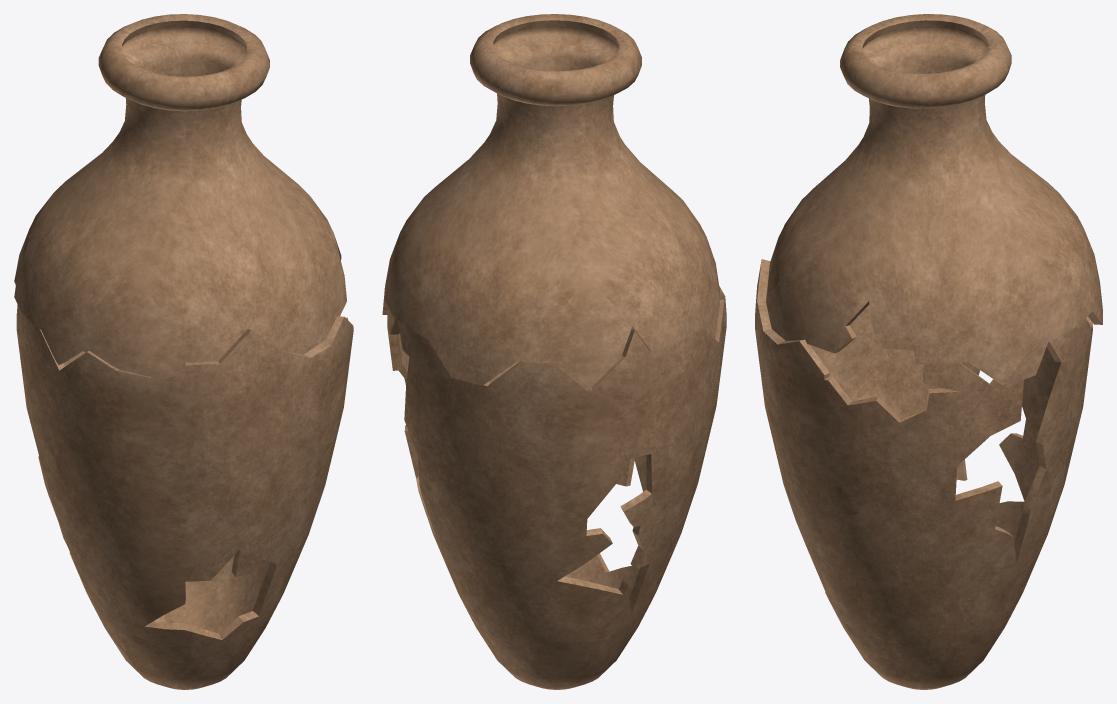
Rendered from PM_BrokenJar.fbx.
3 renders of one model, left to right at view 1: azimuth 30°, elevation 25°; view 2: azimuth 150°, elevation 25°; view 3: azimuth 270°, elevation 25°, orthographic.
Parts seen in each view (by area): view 1: Modl_Jug_Tall_Cracked_Half_Type_1; view 2: Modl_Jug_Tall_Cracked_Half_Type_1; view 3: Modl_Jug_Tall_Cracked_Half_Type_1.
Part boxes in pixels (<box>): Modl_Jug_Tall_Cracked_Half_Type_1: <box>14,14,353,689</box>; Modl_Jug_Tall_Cracked_Half_Type_1: <box>382,14,726,689</box>; Modl_Jug_Tall_Cracked_Half_Type_1: <box>755,14,1102,689</box>.
Size of the model in its own units: 85.88 by 177 by 88.04.
Materials: 1 (1 with a texture image).
